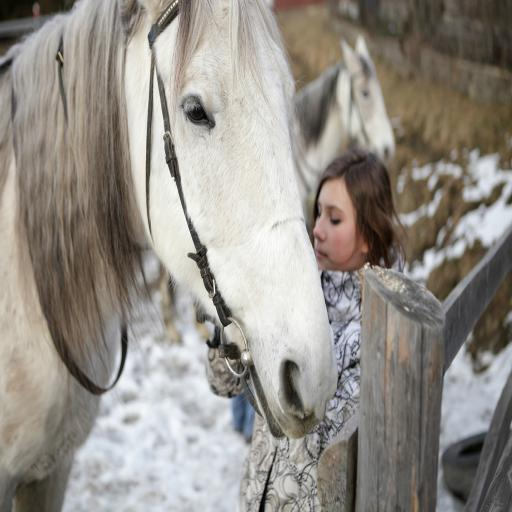horse: (0, 0, 342, 511), (158, 32, 398, 346)
